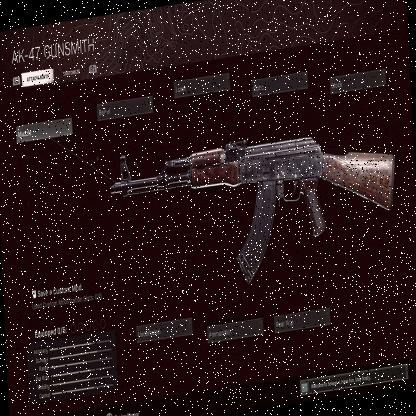rifle: (113, 97, 402, 303)
